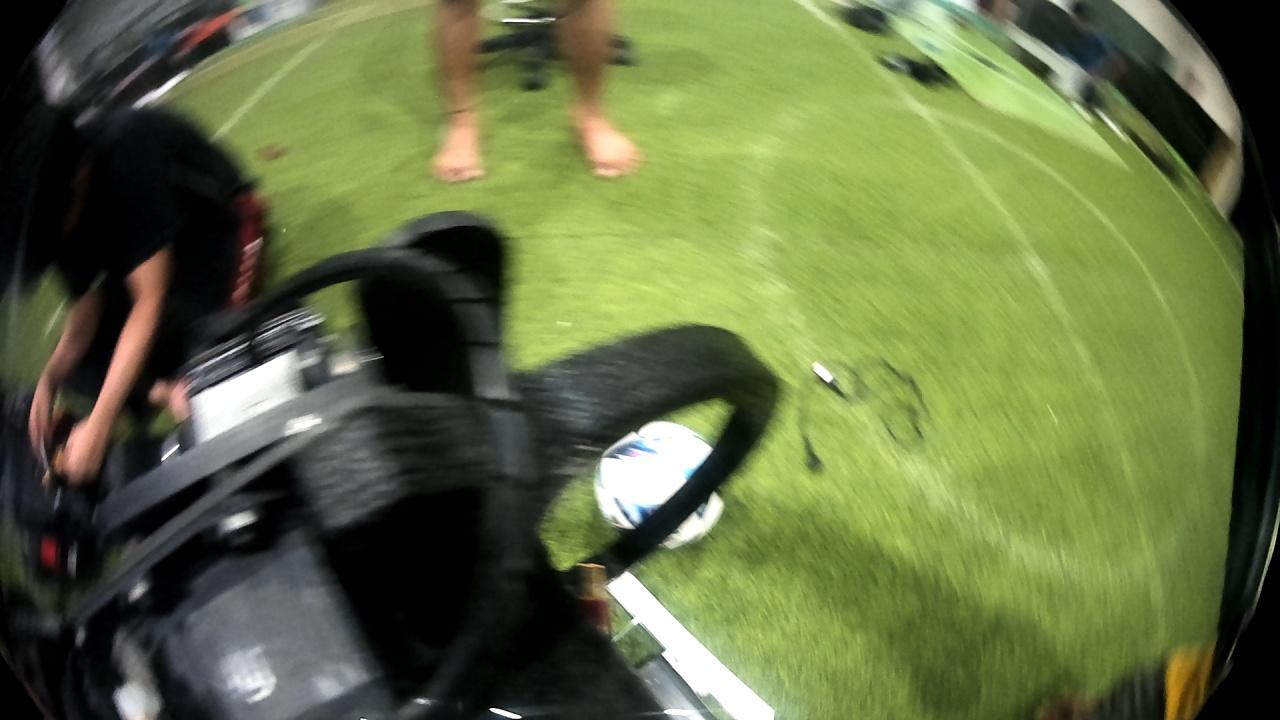ball: (589, 417, 734, 557)
